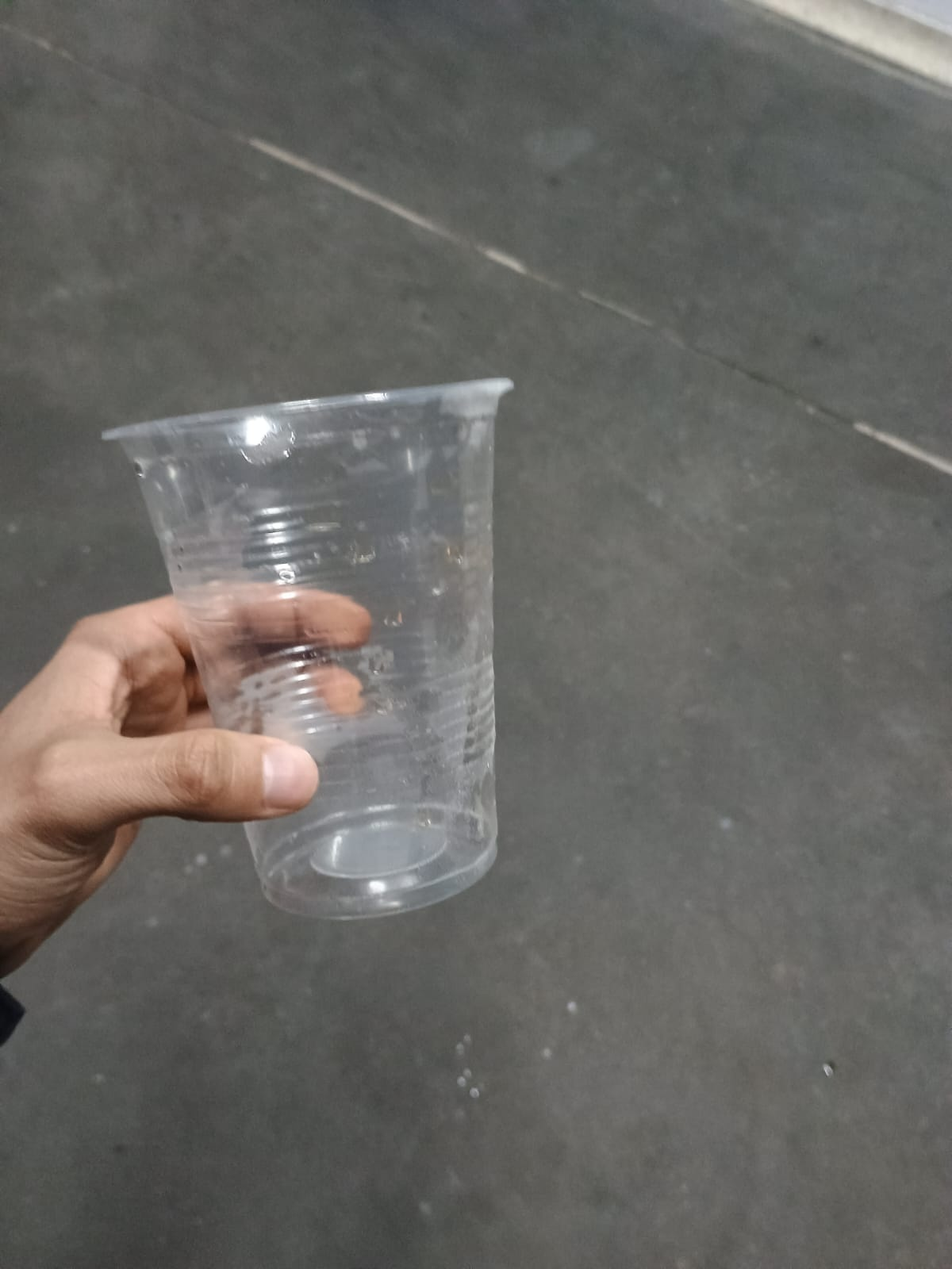Plastico: (101, 375, 519, 926)
